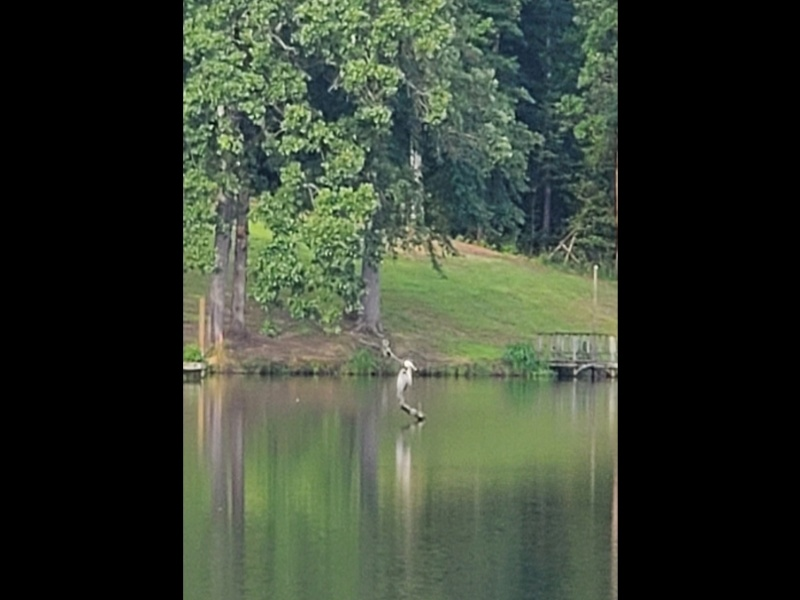heron: (398, 359, 417, 407)
